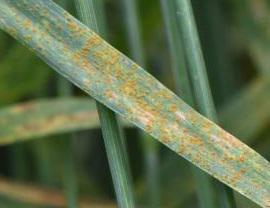Wheat: (57, 32, 182, 137), (166, 117, 264, 194)
